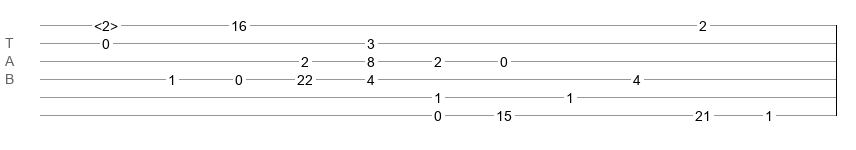0: (102, 36, 110, 46), (235, 72, 243, 82), (434, 108, 442, 118), (500, 54, 508, 64)
1: (168, 72, 176, 82), (434, 90, 442, 100), (566, 90, 574, 100), (765, 108, 773, 118)
15: (496, 108, 512, 118)
16: (231, 18, 247, 28)
2: (301, 54, 309, 64), (434, 54, 442, 64), (699, 18, 707, 28)
21: (695, 108, 711, 118)
22: (297, 72, 313, 82)
3: (367, 36, 375, 46)
4: (367, 72, 375, 82), (633, 72, 641, 82)
8: (367, 54, 375, 64)
harmonic: (94, 18, 118, 28)
